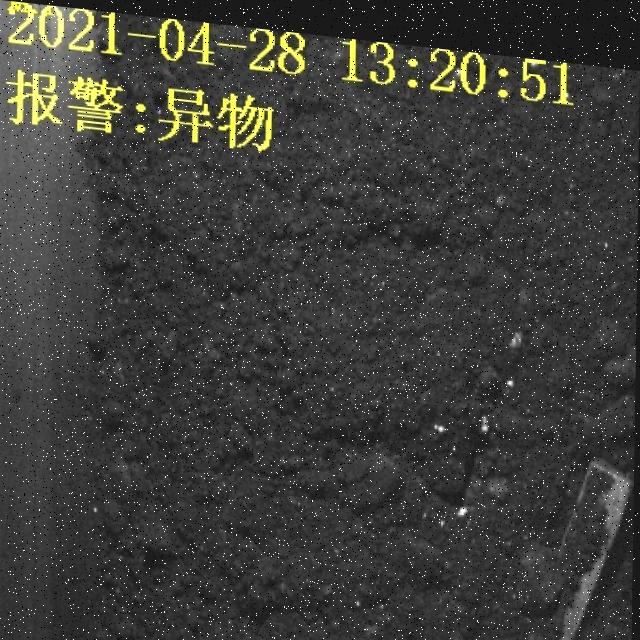Other_garbage: (505, 433, 635, 640)
